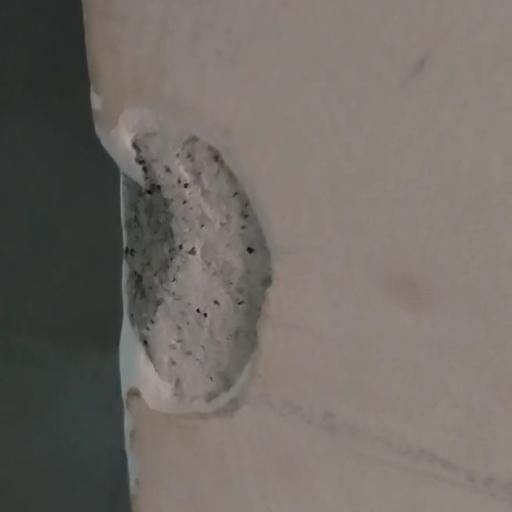spalling: (107, 97, 284, 436)
